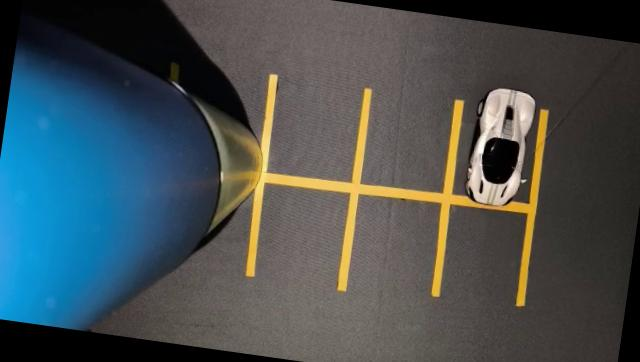toy_car: (432, 68, 561, 225)
